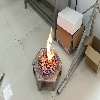fire: (40, 27, 54, 68)
